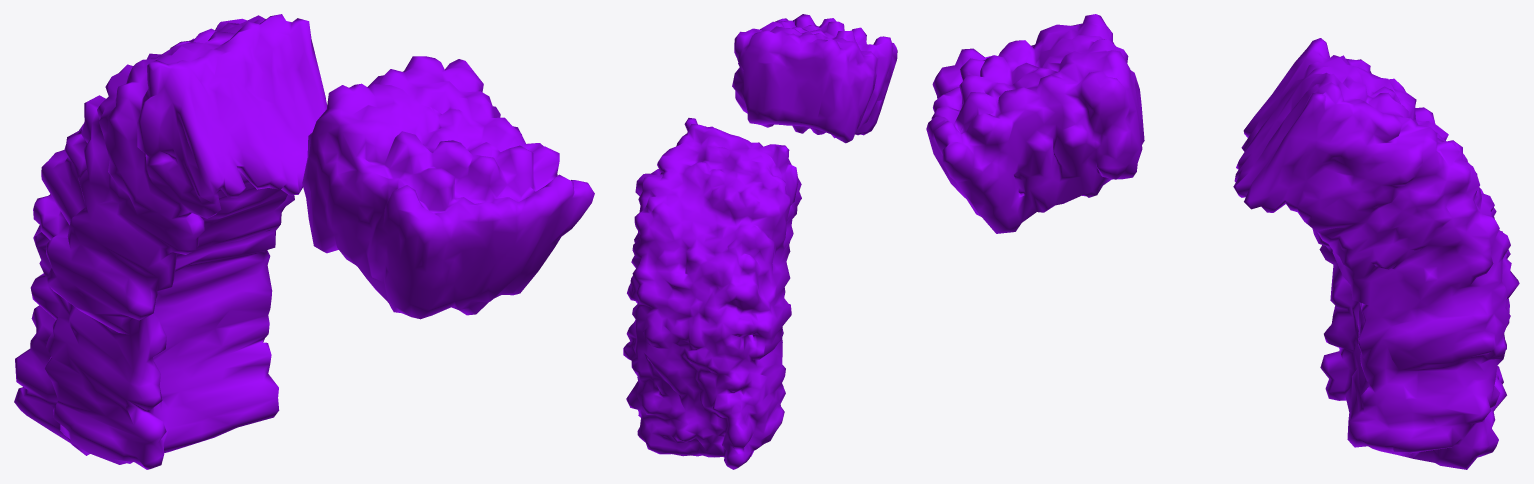
The model's file is mohawk purple.glb.
3 views of the same model, side by side, from view 1: azimuth 30°, elevation 25°; view 2: azimuth 150°, elevation 25°; view 3: azimuth 270°, elevation 25° (orthographic). The views are drawn at different scales.
Visible parts, largest first — view 1: hair_short_mohawk_purple.001; view 2: hair_short_mohawk_purple.001; view 3: hair_short_mohawk_purple.001.
Part boxes in pixels (x1,y1,x2,y2): hair_short_mohawk_purple.001: [14, 14, 594, 469]; hair_short_mohawk_purple.001: [623, 14, 897, 469]; hair_short_mohawk_purple.001: [926, 14, 1519, 469].
Bounding box in the file's own units: 0.1855 × 0.3258 × 0.4082.
1 material, 1 textured.
